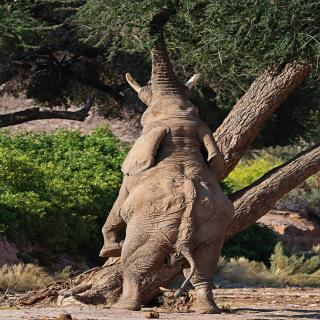Elephant: (100, 11, 249, 319)
